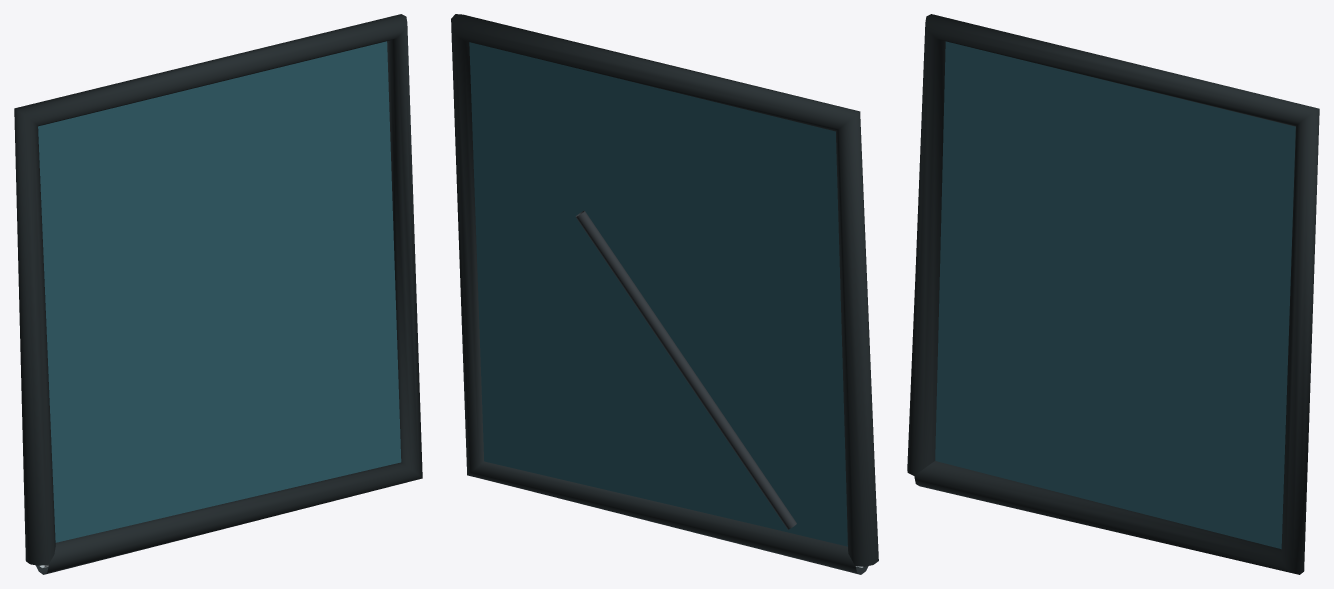
File: marine_window.glb
The picture shows the model from 3 angles, left to right: view 1: azimuth 30°, elevation 25°; view 2: azimuth 150°, elevation 25°; view 3: azimuth 330°, elevation 25°; orthographic projection. The views are drawn at different scales.
Visible parts, largest first — view 1: Laminated marine window, EPDM glazing seal; view 2: Laminated marine window, EPDM glazing seal, Wiper; view 3: Laminated marine window, EPDM glazing seal.
Boxes of the visible parts, box(x1,y1,x2,y2) form: Laminated marine window: box(38, 41, 401, 542); EPDM glazing seal: box(14, 14, 422, 574); Laminated marine window: box(469, 42, 847, 546); EPDM glazing seal: box(451, 14, 878, 574); Wiper: box(575, 210, 796, 529); Laminated marine window: box(935, 41, 1295, 549); EPDM glazing seal: box(907, 14, 1319, 574).
Size of the model in its own units: 0.9113 by 1.01 by 0.1519.
